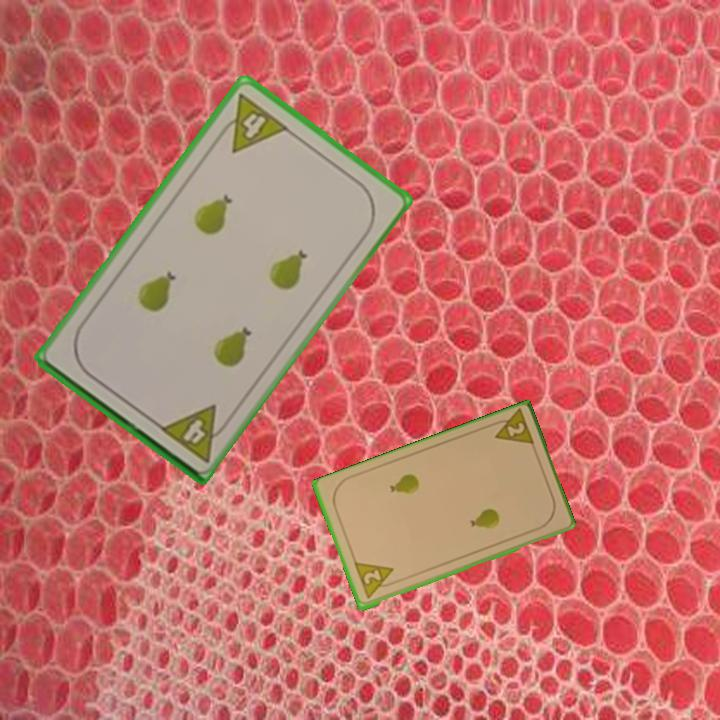2p: (486, 407, 537, 450), (351, 559, 400, 603)
4p: (211, 90, 292, 156), (156, 401, 234, 465)
